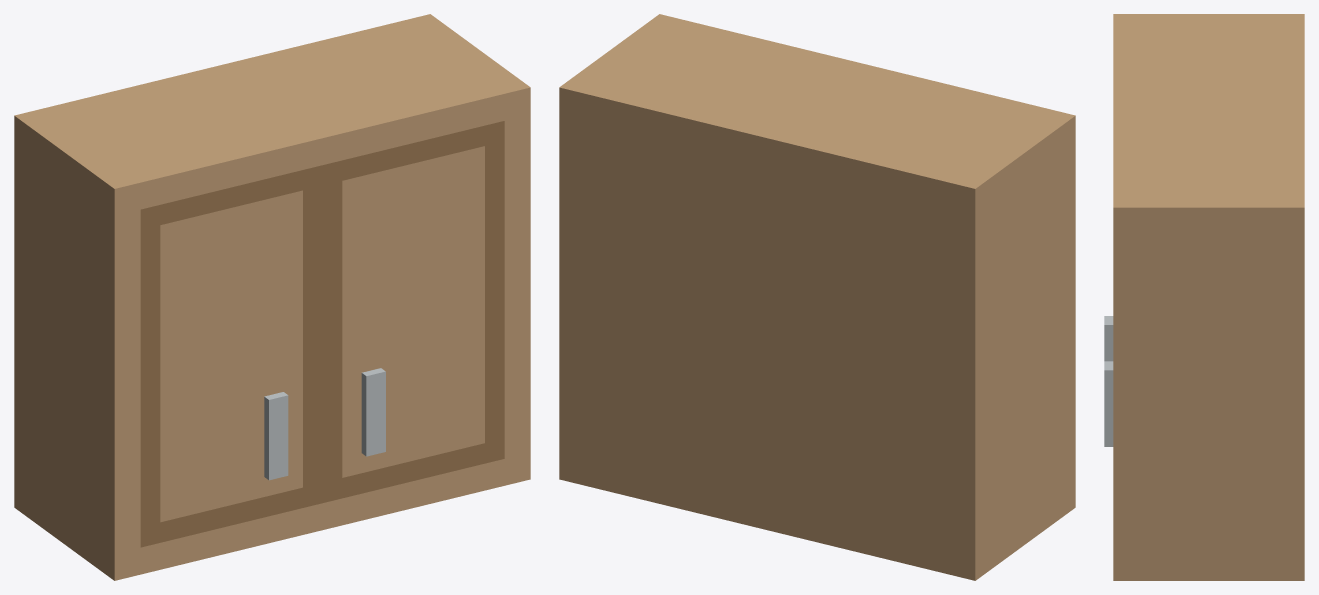
File: kitchen-wall-double.glb
The picture shows the model from 3 angles, left to right: view 1: azimuth 30°, elevation 25°; view 2: azimuth 150°, elevation 25°; view 3: azimuth 270°, elevation 25°; orthographic projection. The views are drawn at different scales.
Visible parts, largest first — view 1: kitchen-wall-double; view 2: kitchen-wall-double; view 3: kitchen-wall-double.
Boxes of the visible parts, x1,y1,x2,y2 form: kitchen-wall-double: (14,14,530,580); kitchen-wall-double: (559,14,1075,580); kitchen-wall-double: (1104,14,1304,580).
Size of the model in its own units: 0.8 by 0.72 by 0.35.
